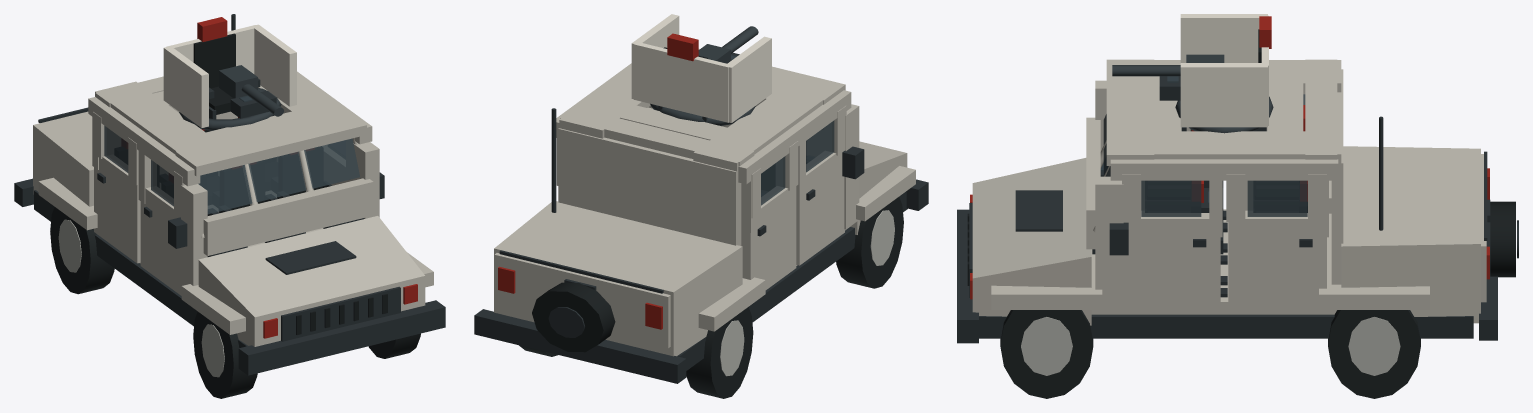
3 renders of one model, left to right at view 1: azimuth 30°, elevation 25°; view 2: azimuth 150°, elevation 25°; view 3: azimuth 270°, elevation 25°, orthographic. The views are drawn at different scales.
Parts seen in each view (by area): view 1: humvee-painted, humvee-glazing, turret-fleet-armor, crew-chair-gunner-painted, wheel--1--1.93-fleet-rubber, wheel--1-1.52-fleet-rubber, crew-chair-front-center-painted, crew-chair-passenger-painted, breakaway-2-painted, breakaway-1-painted, barrel-fleet-machine, wheel--1--1.93-fleet-edge (+7 smaller); view 2: humvee-painted, turret-fleet-armor, wheel--1--1.93-fleet-rubber, wheel--1-1.52-fleet-rubber, humvee-glazing, breakaway-1-painted, breakaway-2-painted, wheel--1--1.93-fleet-edge, wheel--1-1.52-fleet-edge, barrel-fleet-machine, crew-chair-gunner-painted, breakaway-0-painted (+1 smaller); view 3: humvee-painted, turret-fleet-armor, humvee-glazing, wheel-1--1.93-fleet-rubber, wheel-1-1.52-fleet-rubber, wheel-1--1.93-fleet-edge, wheel-1-1.52-fleet-edge, barrel-fleet-machine, crew-chair-rear-center-painted, crew-chair-gunner-painted, crew-chair-rear-left-painted, crew-chair-front-center-painted (+3 smaller).
Part boxes in pixels (x1,y1,x2,y2): humvee-painted: (14,14,445,375); humvee-glazing: (104,125,359,214); turret-fleet-armor: (163,24,296,127); crew-chair-gunner-painted: (193,17,276,119); wheel--1--1.93-fleet-rubber: (50,207,114,294); wheel--1-1.52-fleet-rubber: (193,311,257,398); crew-chair-front-center-painted: (218,161,305,242); crew-chair-passenger-painted: (277,146,364,228); breakaway-2-painted: (181,284,245,334); breakaway-1-painted: (38,177,97,230); barrel-fleet-machine: (219,65,283,116); wheel--1--1.93-fleet-edge: (58,219,81,272); humvee-painted: (474,49,928,383); turret-fleet-armor: (631,14,771,122); wheel--1--1.93-fleet-rubber: (686,307,753,398); wheel--1-1.52-fleet-rubber: (836,197,903,288); humvee-glazing: (755,106,834,205); breakaway-1-painted: (698,277,765,331); breakaway-2-painted: (856,166,915,221); wheel--1--1.93-fleet-edge: (720,320,744,376); wheel--1-1.52-fleet-edge: (870,210,894,265); barrel-fleet-machine: (698,26,758,63); crew-chair-gunner-painted: (658,33,739,126); breakaway-0-painted: (842,146,864,179); humvee-painted: (957,59,1518,343); turret-fleet-armor: (1180,14,1268,127); humvee-glazing: (1103,94,1307,216); wheel-1--1.93-fleet-rubber: (1328,310,1420,398); wheel-1-1.52-fleet-rubber: (1000,310,1093,398); wheel-1--1.93-fleet-edge: (1348,317,1400,375); wheel-1-1.52-fleet-edge: (1021,317,1072,375); barrel-fleet-machine: (1112,54,1224,76); crew-chair-rear-center-painted: (1201,181,1299,264); crew-chair-gunner-painted: (1159,16,1271,131); crew-chair-rear-left-painted: (1204,105,1305,232); crew-chair-front-center-painted: (1145,186,1189,212).
Bounding box in the file's own units: 15.22 × 19.71 × 31.05.
